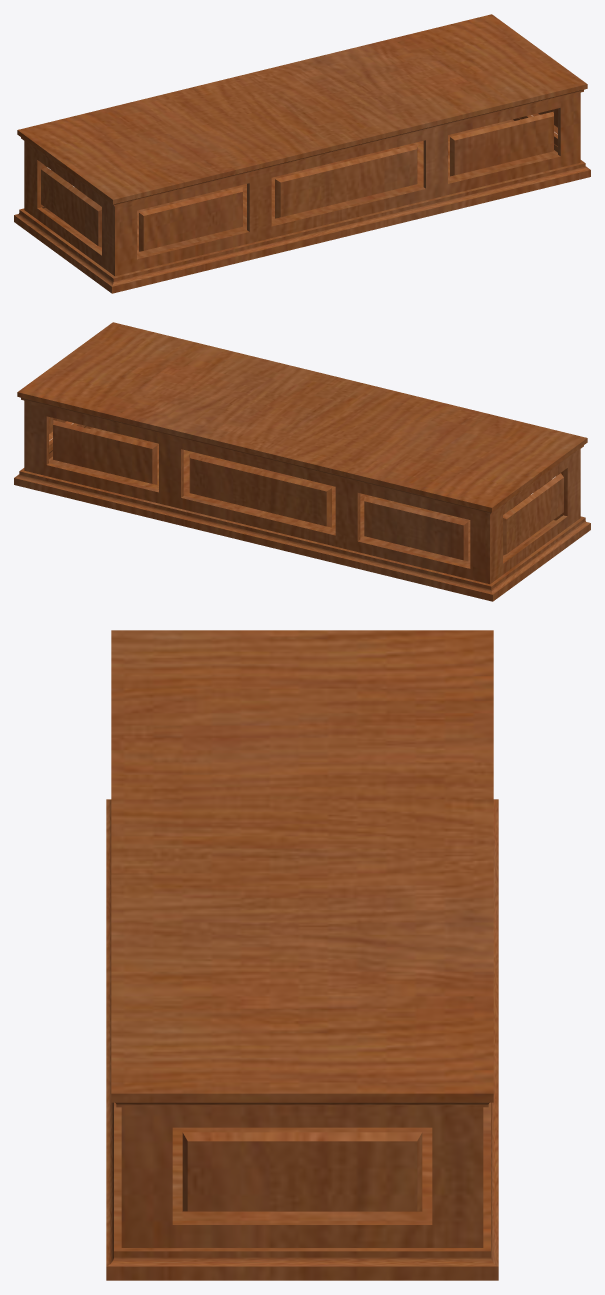
File: 41_openskp_material_76.obj
3 views of the same model, one above another, from view 1: azimuth 30°, elevation 25°; view 2: azimuth 150°, elevation 25°; view 3: azimuth 270°, elevation 25° (orthographic). The views are drawn at different scales.
Parts seen in each view (by area): view 1: 41_openskp_material_76; view 2: 41_openskp_material_76; view 3: 41_openskp_material_76.
Part boxes in pixels (bbox=[...]): 41_openskp_material_76: bbox=[14, 14, 590, 293]; 41_openskp_material_76: bbox=[14, 322, 590, 601]; 41_openskp_material_76: bbox=[106, 630, 498, 1280].
Bounding box in the file's own units: 46.97 × 8.66 × 16.67.
Materials: 1 (1 with a texture image).
